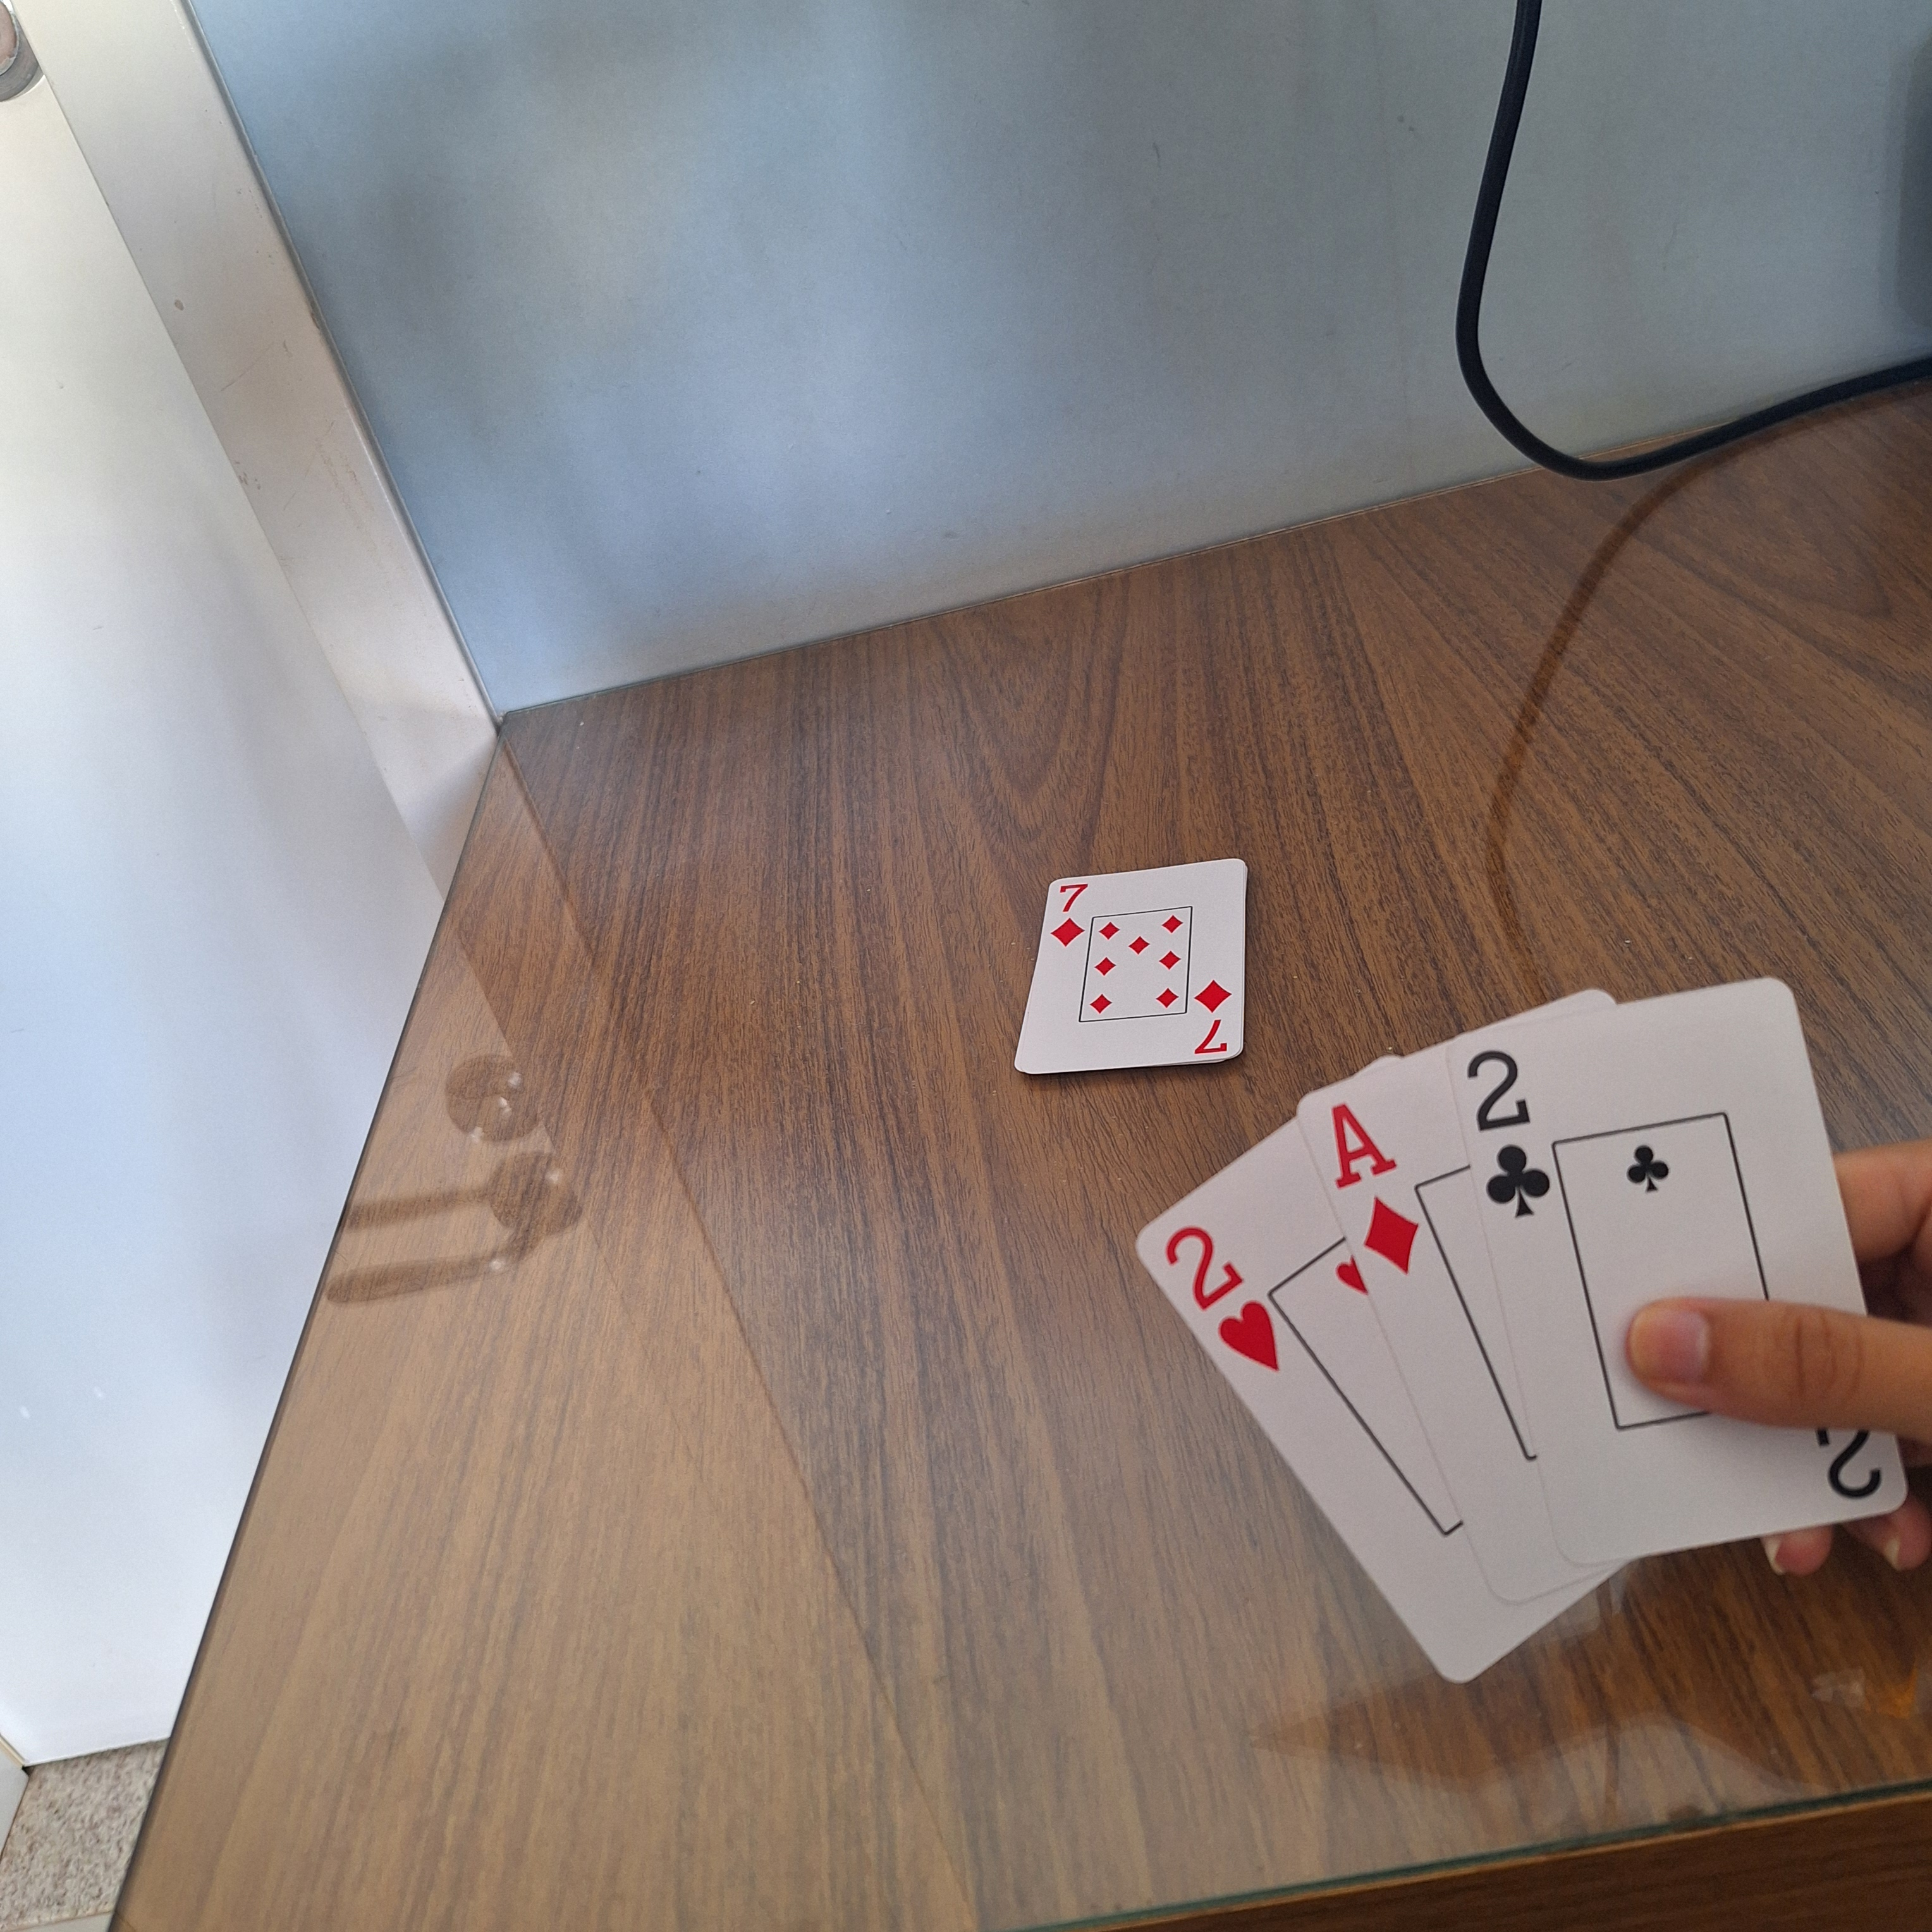2C: (1155, 1215, 1290, 1378)
2P: (1454, 1039, 1569, 1228)
7O: (1187, 971, 1240, 1063), (1044, 872, 1092, 954)
AO: (1330, 1093, 1430, 1279)
